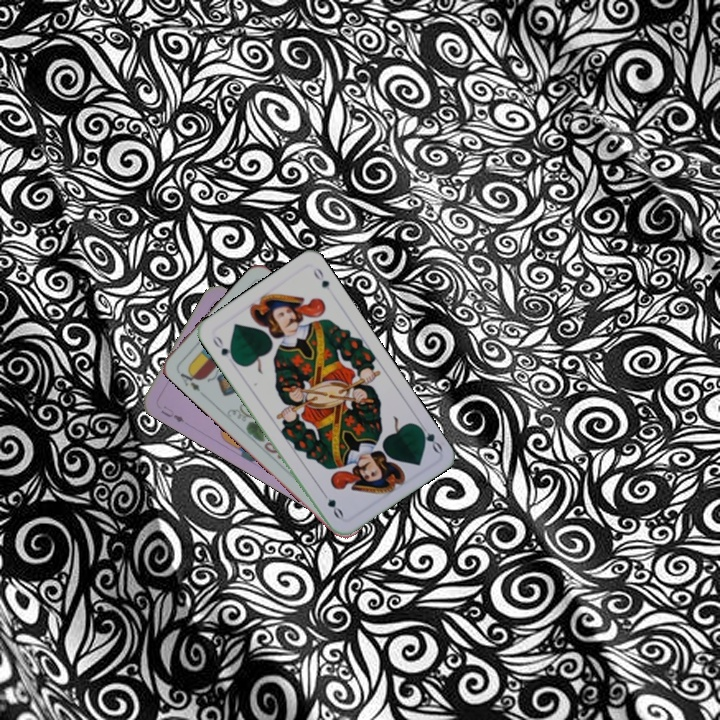EA: (176, 364, 203, 394)
EU: (157, 401, 187, 425)
GO: (413, 418, 445, 455), (208, 332, 239, 365)
